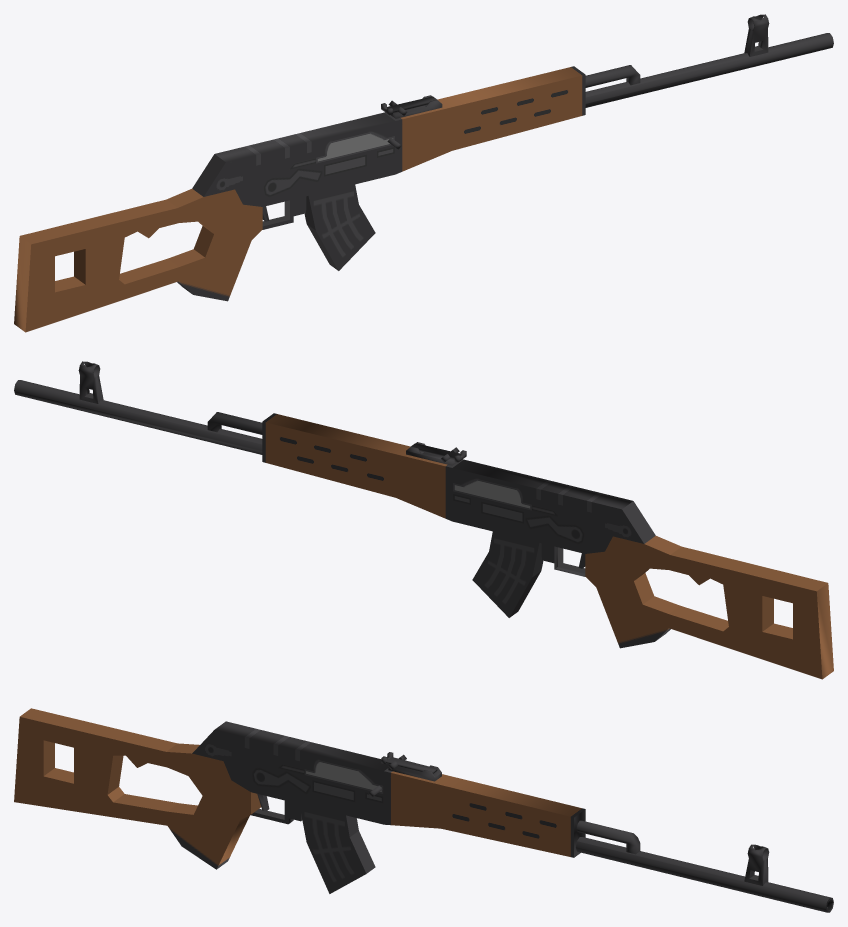
File: SVD.FBX
3 views of the same model, one above another, from view 1: azimuth 30°, elevation 25°; view 2: azimuth 150°, elevation 25°; view 3: azimuth 330°, elevation 25° (orthographic).
Visible parts, largest first — view 1: SVD; view 2: SVD; view 3: SVD.
Part boxes in pixels (left/top/right/bottom): SVD: left=14, top=14, right=833, bottom=332; SVD: left=14, top=361, right=833, bottom=679; SVD: left=14, top=708, right=833, bottom=912.
Size of the model in its own units: 125 by 22.1 by 5.15.
